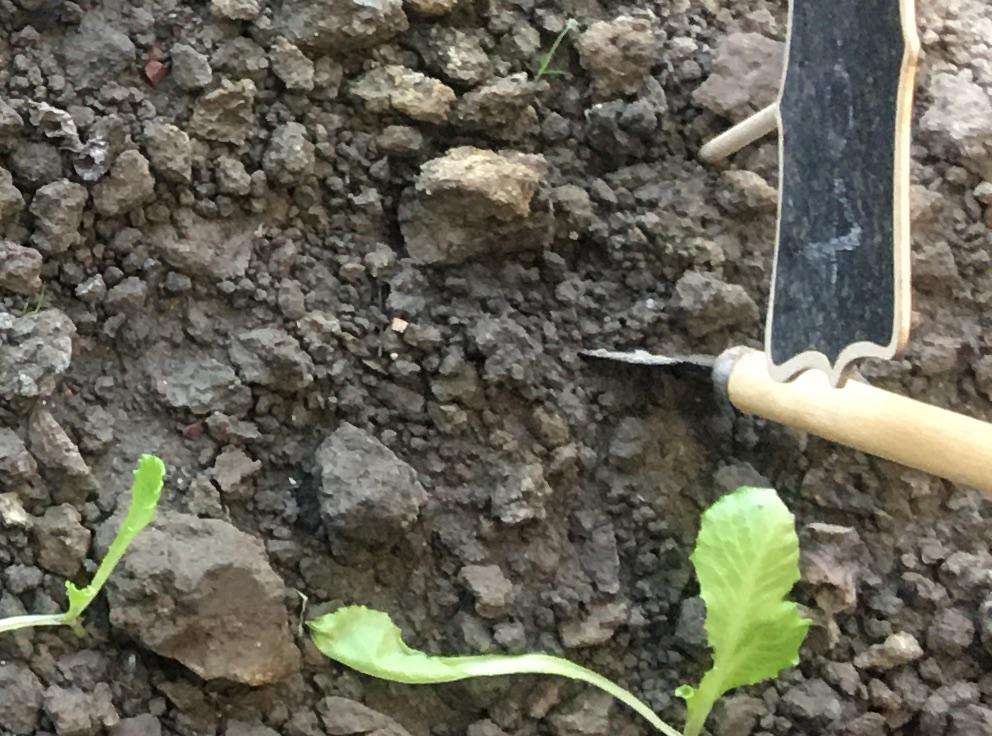block: (97, 512, 300, 690), (397, 142, 557, 267), (309, 418, 435, 555)
